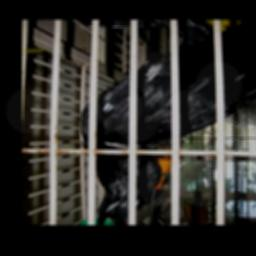Crow: (81, 20, 256, 221)
